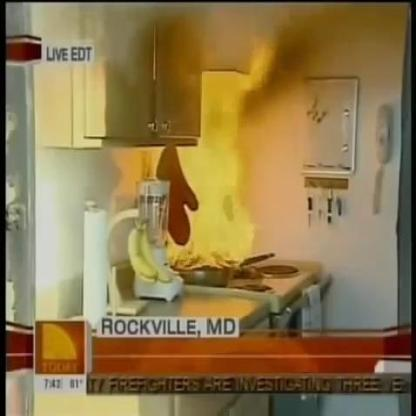fire: (174, 129, 254, 268)
